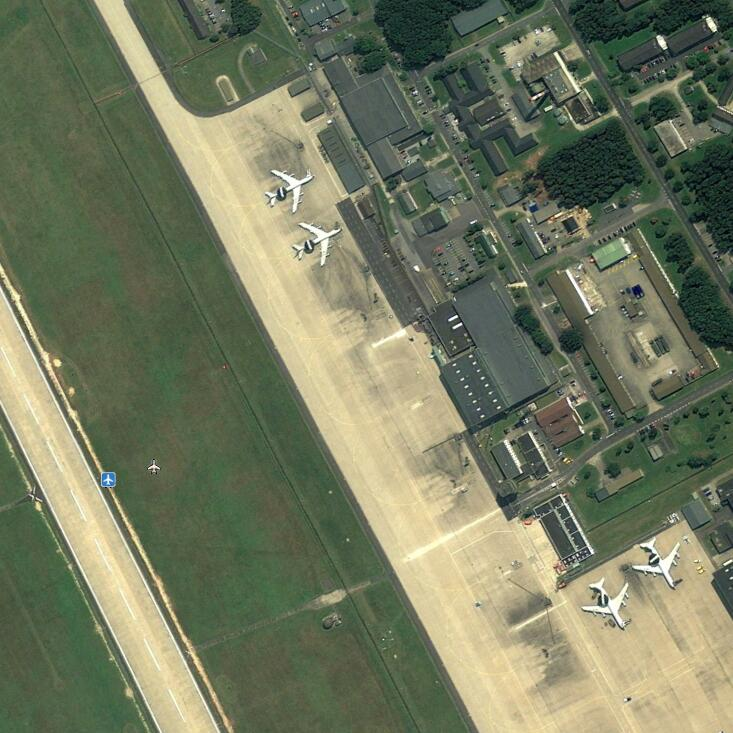A7: (579, 576, 632, 634), (631, 535, 682, 590), (290, 219, 341, 268), (265, 166, 315, 215)
